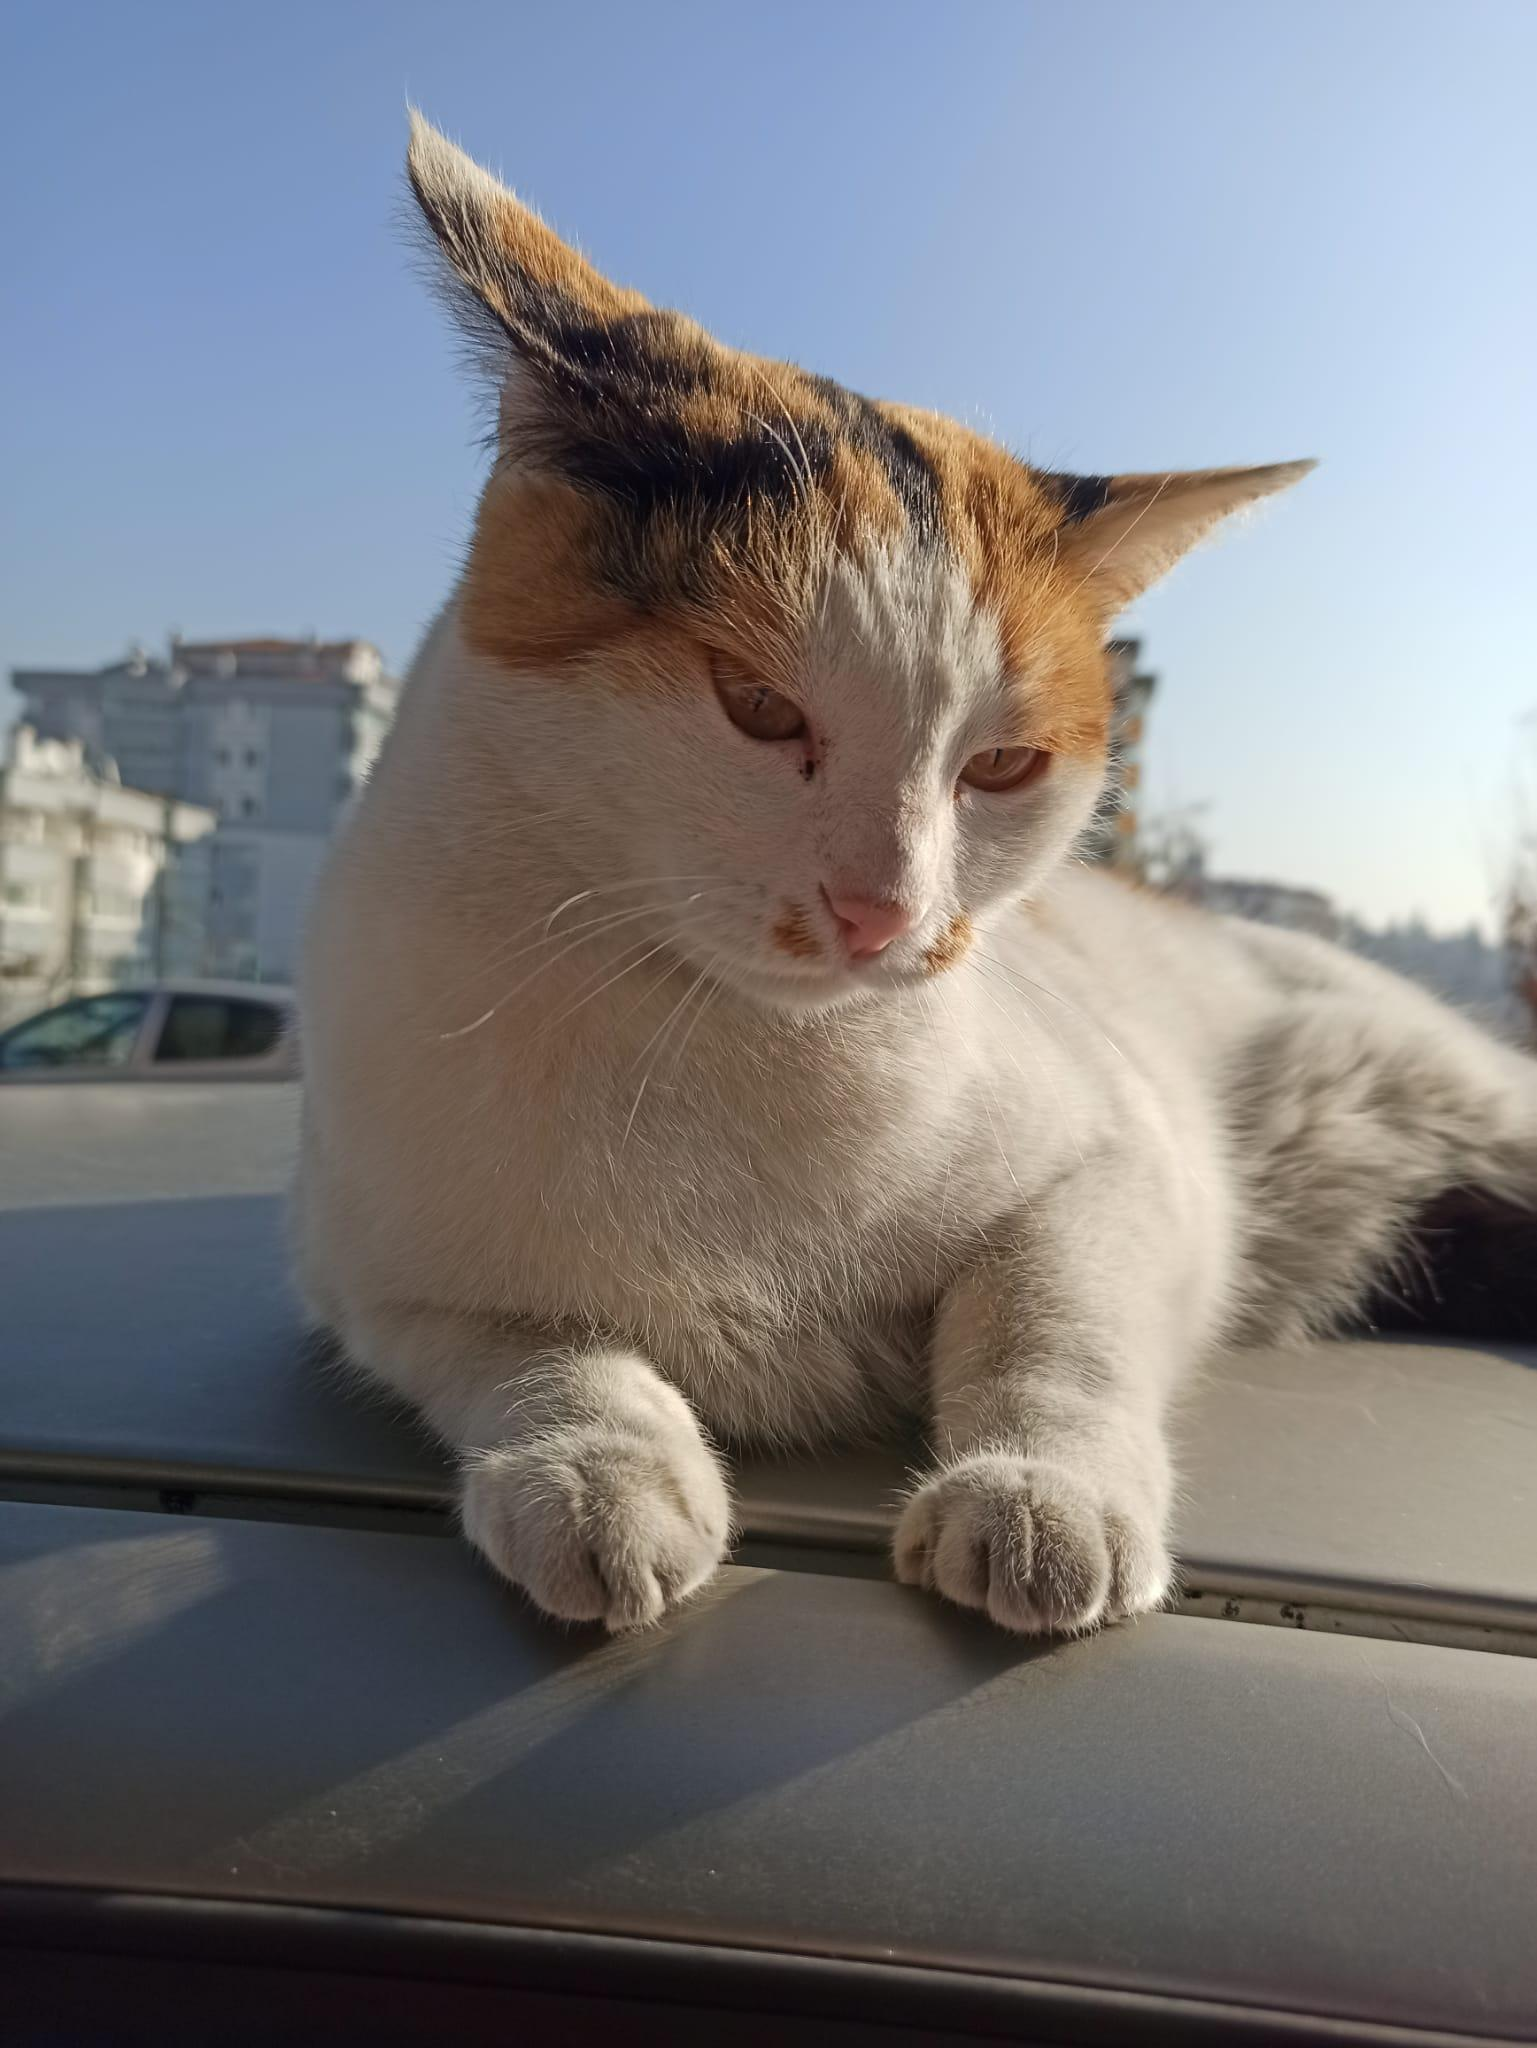kedo: (316, 118, 1511, 1627)
